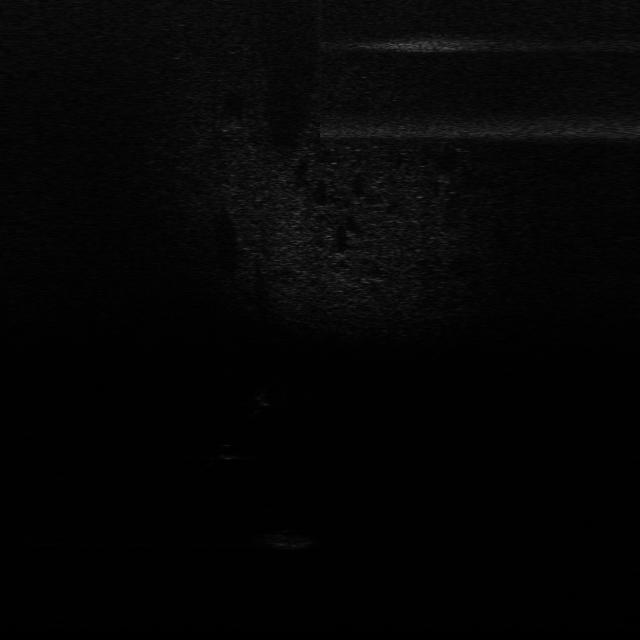ball: (217, 442, 244, 462)
circle cage: (266, 527, 320, 551)
human body: (254, 378, 284, 423)
